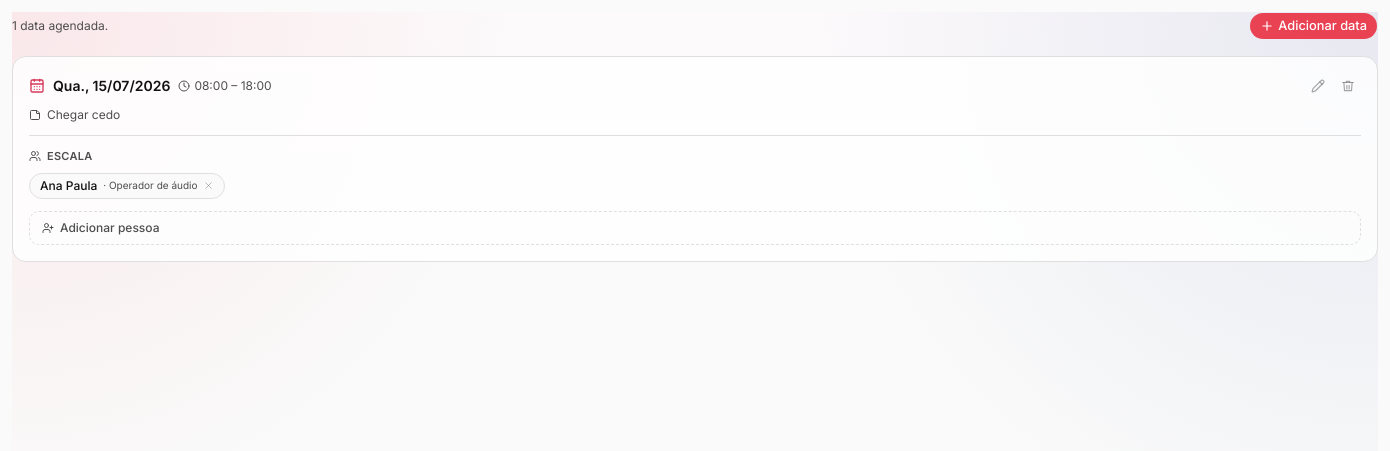
Test: EventDatesPanel › abre o form de escala, alterna entre 'Da equipe' e 'Nome livre'
Step 1. Click the heading "Adicionar pessoa" → coordinates (101, 227), box [42,220,160,234]
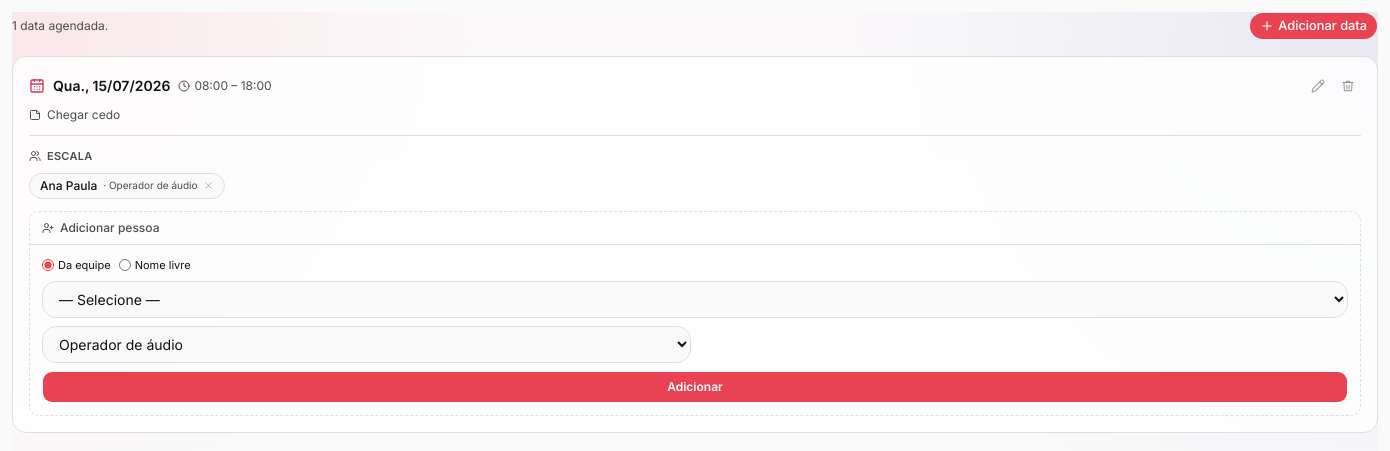
Check: the radio button labelled "Da equipe" is checked, box [42,259,54,271]
Check: the 1st dropdown named "teamMemberId" is shown, box [42,281,1348,318]
// Troca para nome livre: aparece o input de texto.
Step 2. Click the radio button labelled "Nome livre" → coordinates (125, 265), box [119,259,131,271]
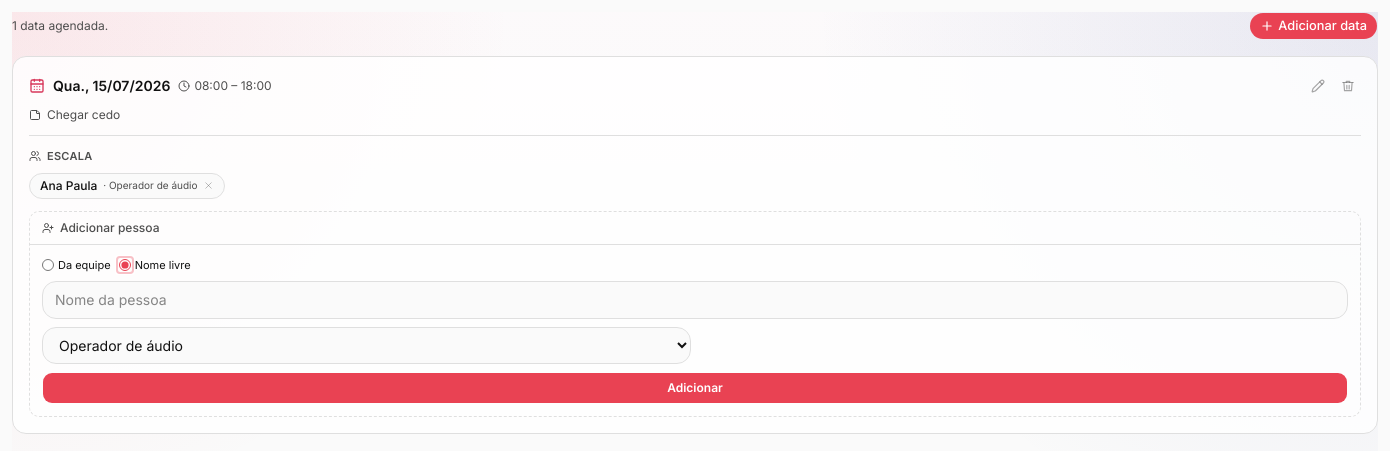
Check: the radio button labelled "Nome livre" is checked, box [119,259,131,271]
Check: the field with placeholder "Nome da pessoa" is shown, box [42,281,1348,319]
// Volta para "Da equipe".
Step 3. Click the radio button labelled "Da equipe" → coordinates (48, 265), box [42,259,54,271]
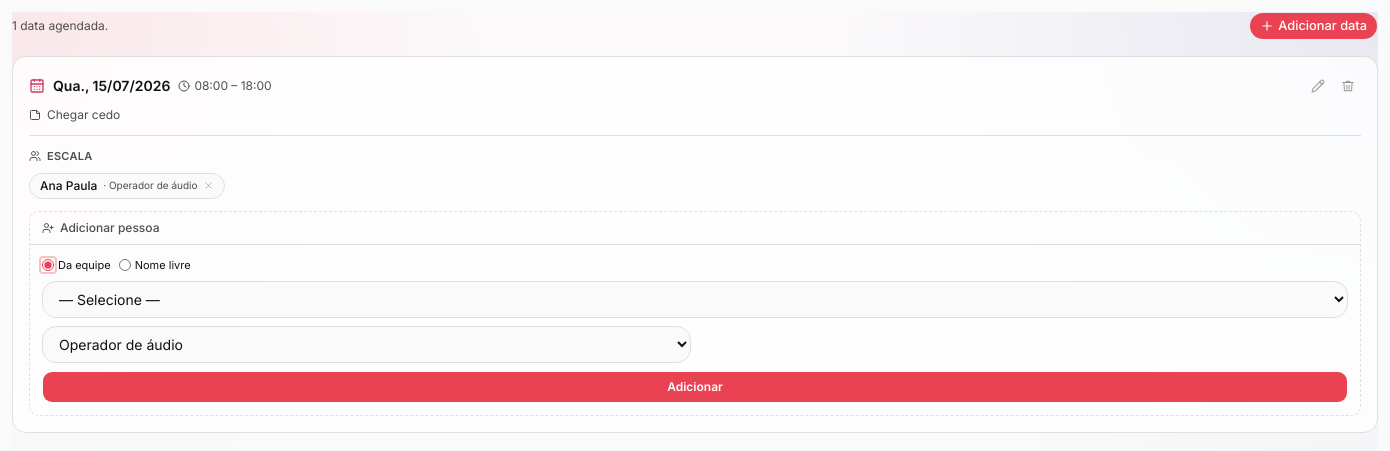
Check: the 1st dropdown named "teamMemberId" is shown, box [42,281,1348,318]
